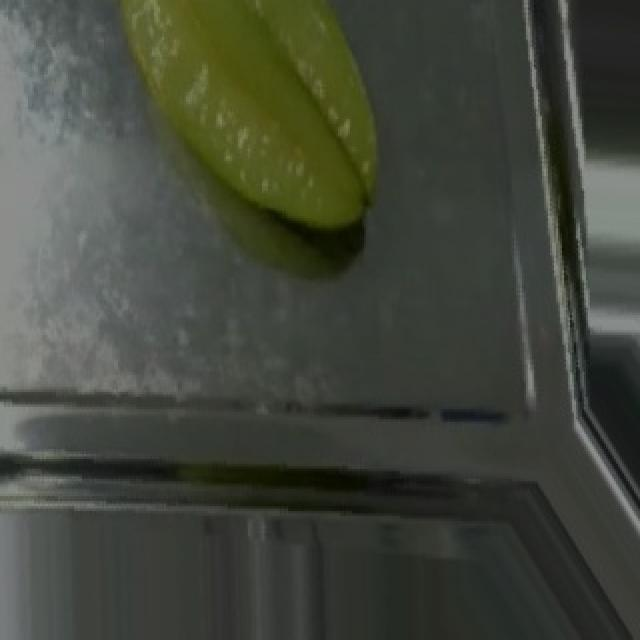fruit: (92, 0, 414, 251)
